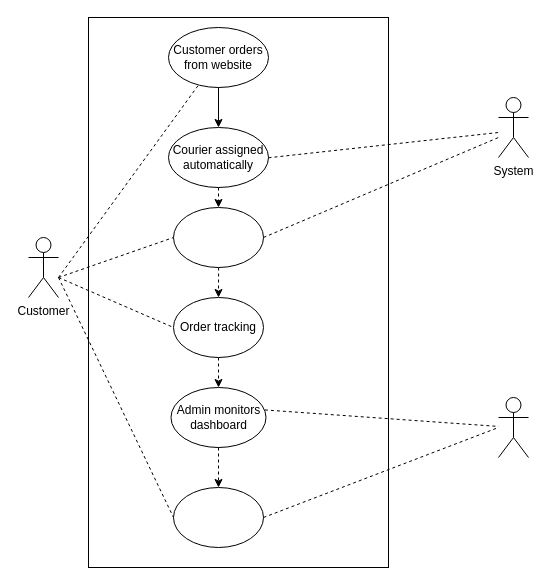
Some shapes in this 550 by 585 pixel diagram are drawn without their labels. The shapes that lost their labels are listed below. From the top down, each one's centre as x and y in pixels, then its label:
At point 218,237: "Tracking link is shared".
At point 513,427: "Admin".
At point 218,517: "WhatsApp/Chat support".
